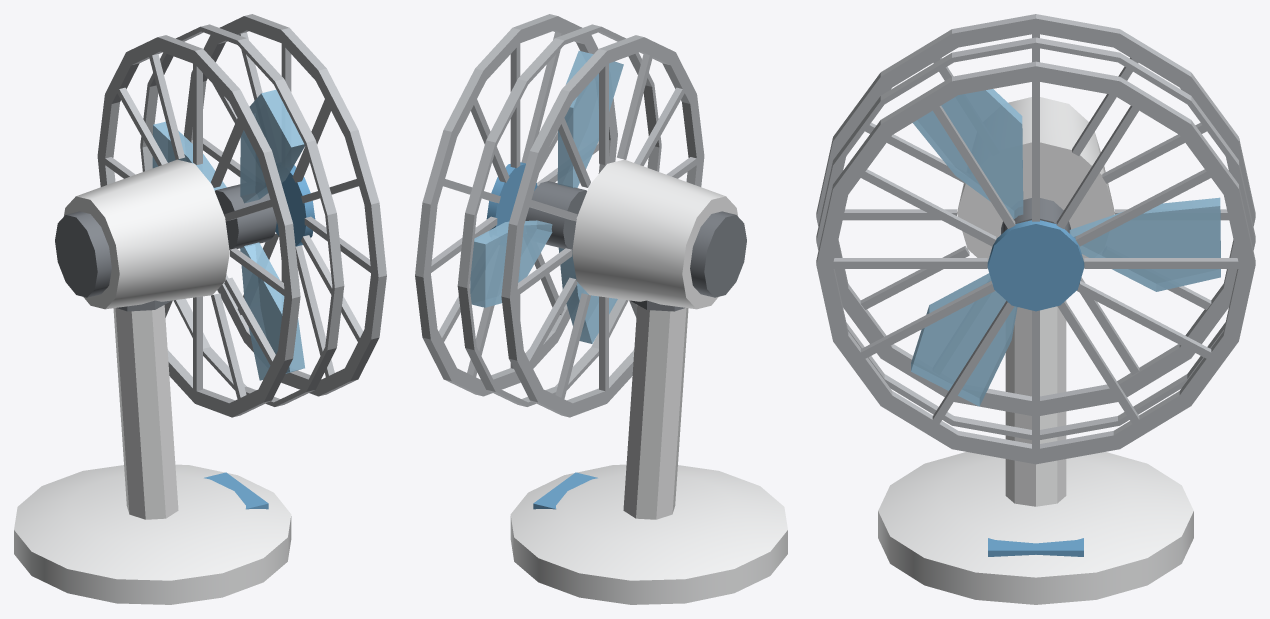
Rendered from ventilador_mesa_medio.glb.
The picture shows the model from 3 angles, left to right: view 1: azimuth 30°, elevation 25°; view 2: azimuth 150°, elevation 25°; view 3: azimuth 270°, elevation 25°; orthographic projection. The views are drawn at different scales.
Visible parts, largest first — view 1: corpo, helice; view 2: corpo, helice; view 3: corpo, helice.
Boxes of the visible parts, box(x1,y1,x2,y2) form: corpo: box(14, 14, 386, 604); helice: box(152, 89, 304, 380); corpo: box(415, 14, 787, 604); helice: box(470, 50, 623, 343); corpo: box(816, 14, 1255, 604); helice: box(911, 89, 1220, 406).
Bounding box in the file's own units: 0.249 × 0.44 × 0.32.
